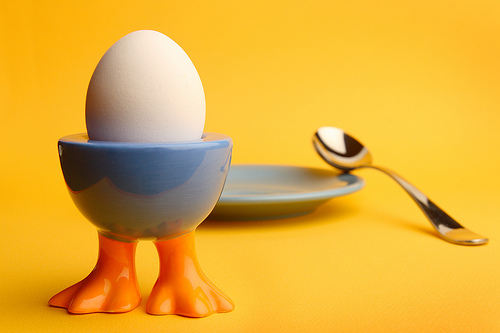egg: (84, 29, 207, 156)
